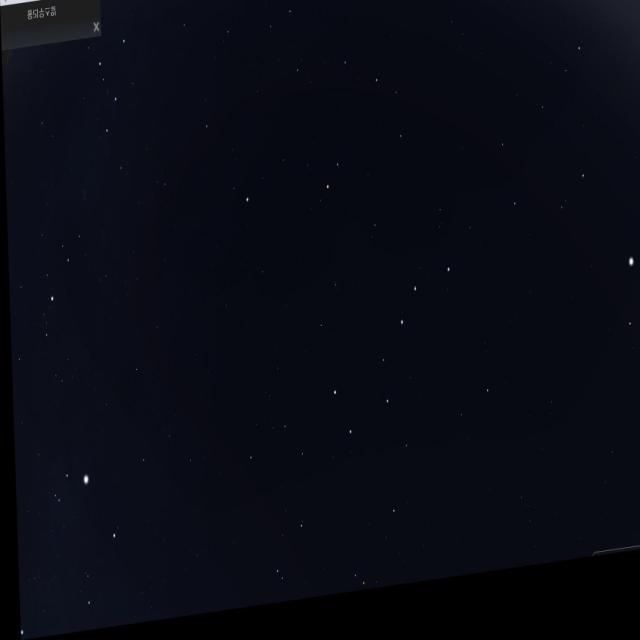cassiopeia: (89, 19, 138, 192)
ursa_major: (324, 277, 454, 465)
